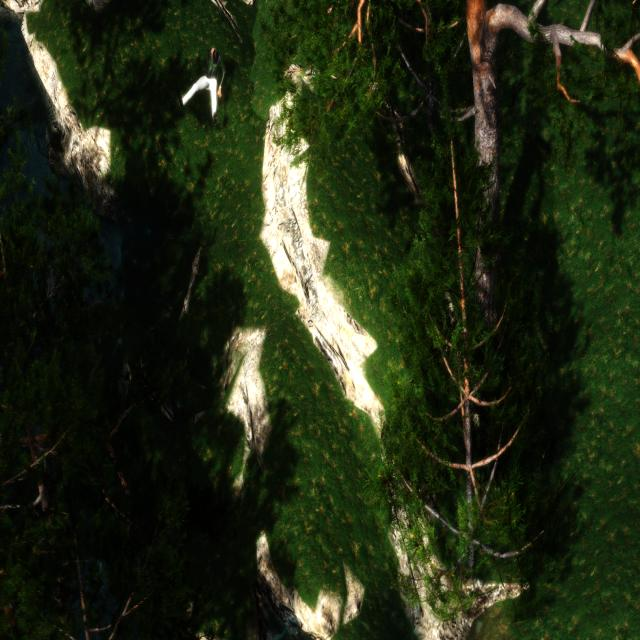Human: (178, 41, 228, 128)
